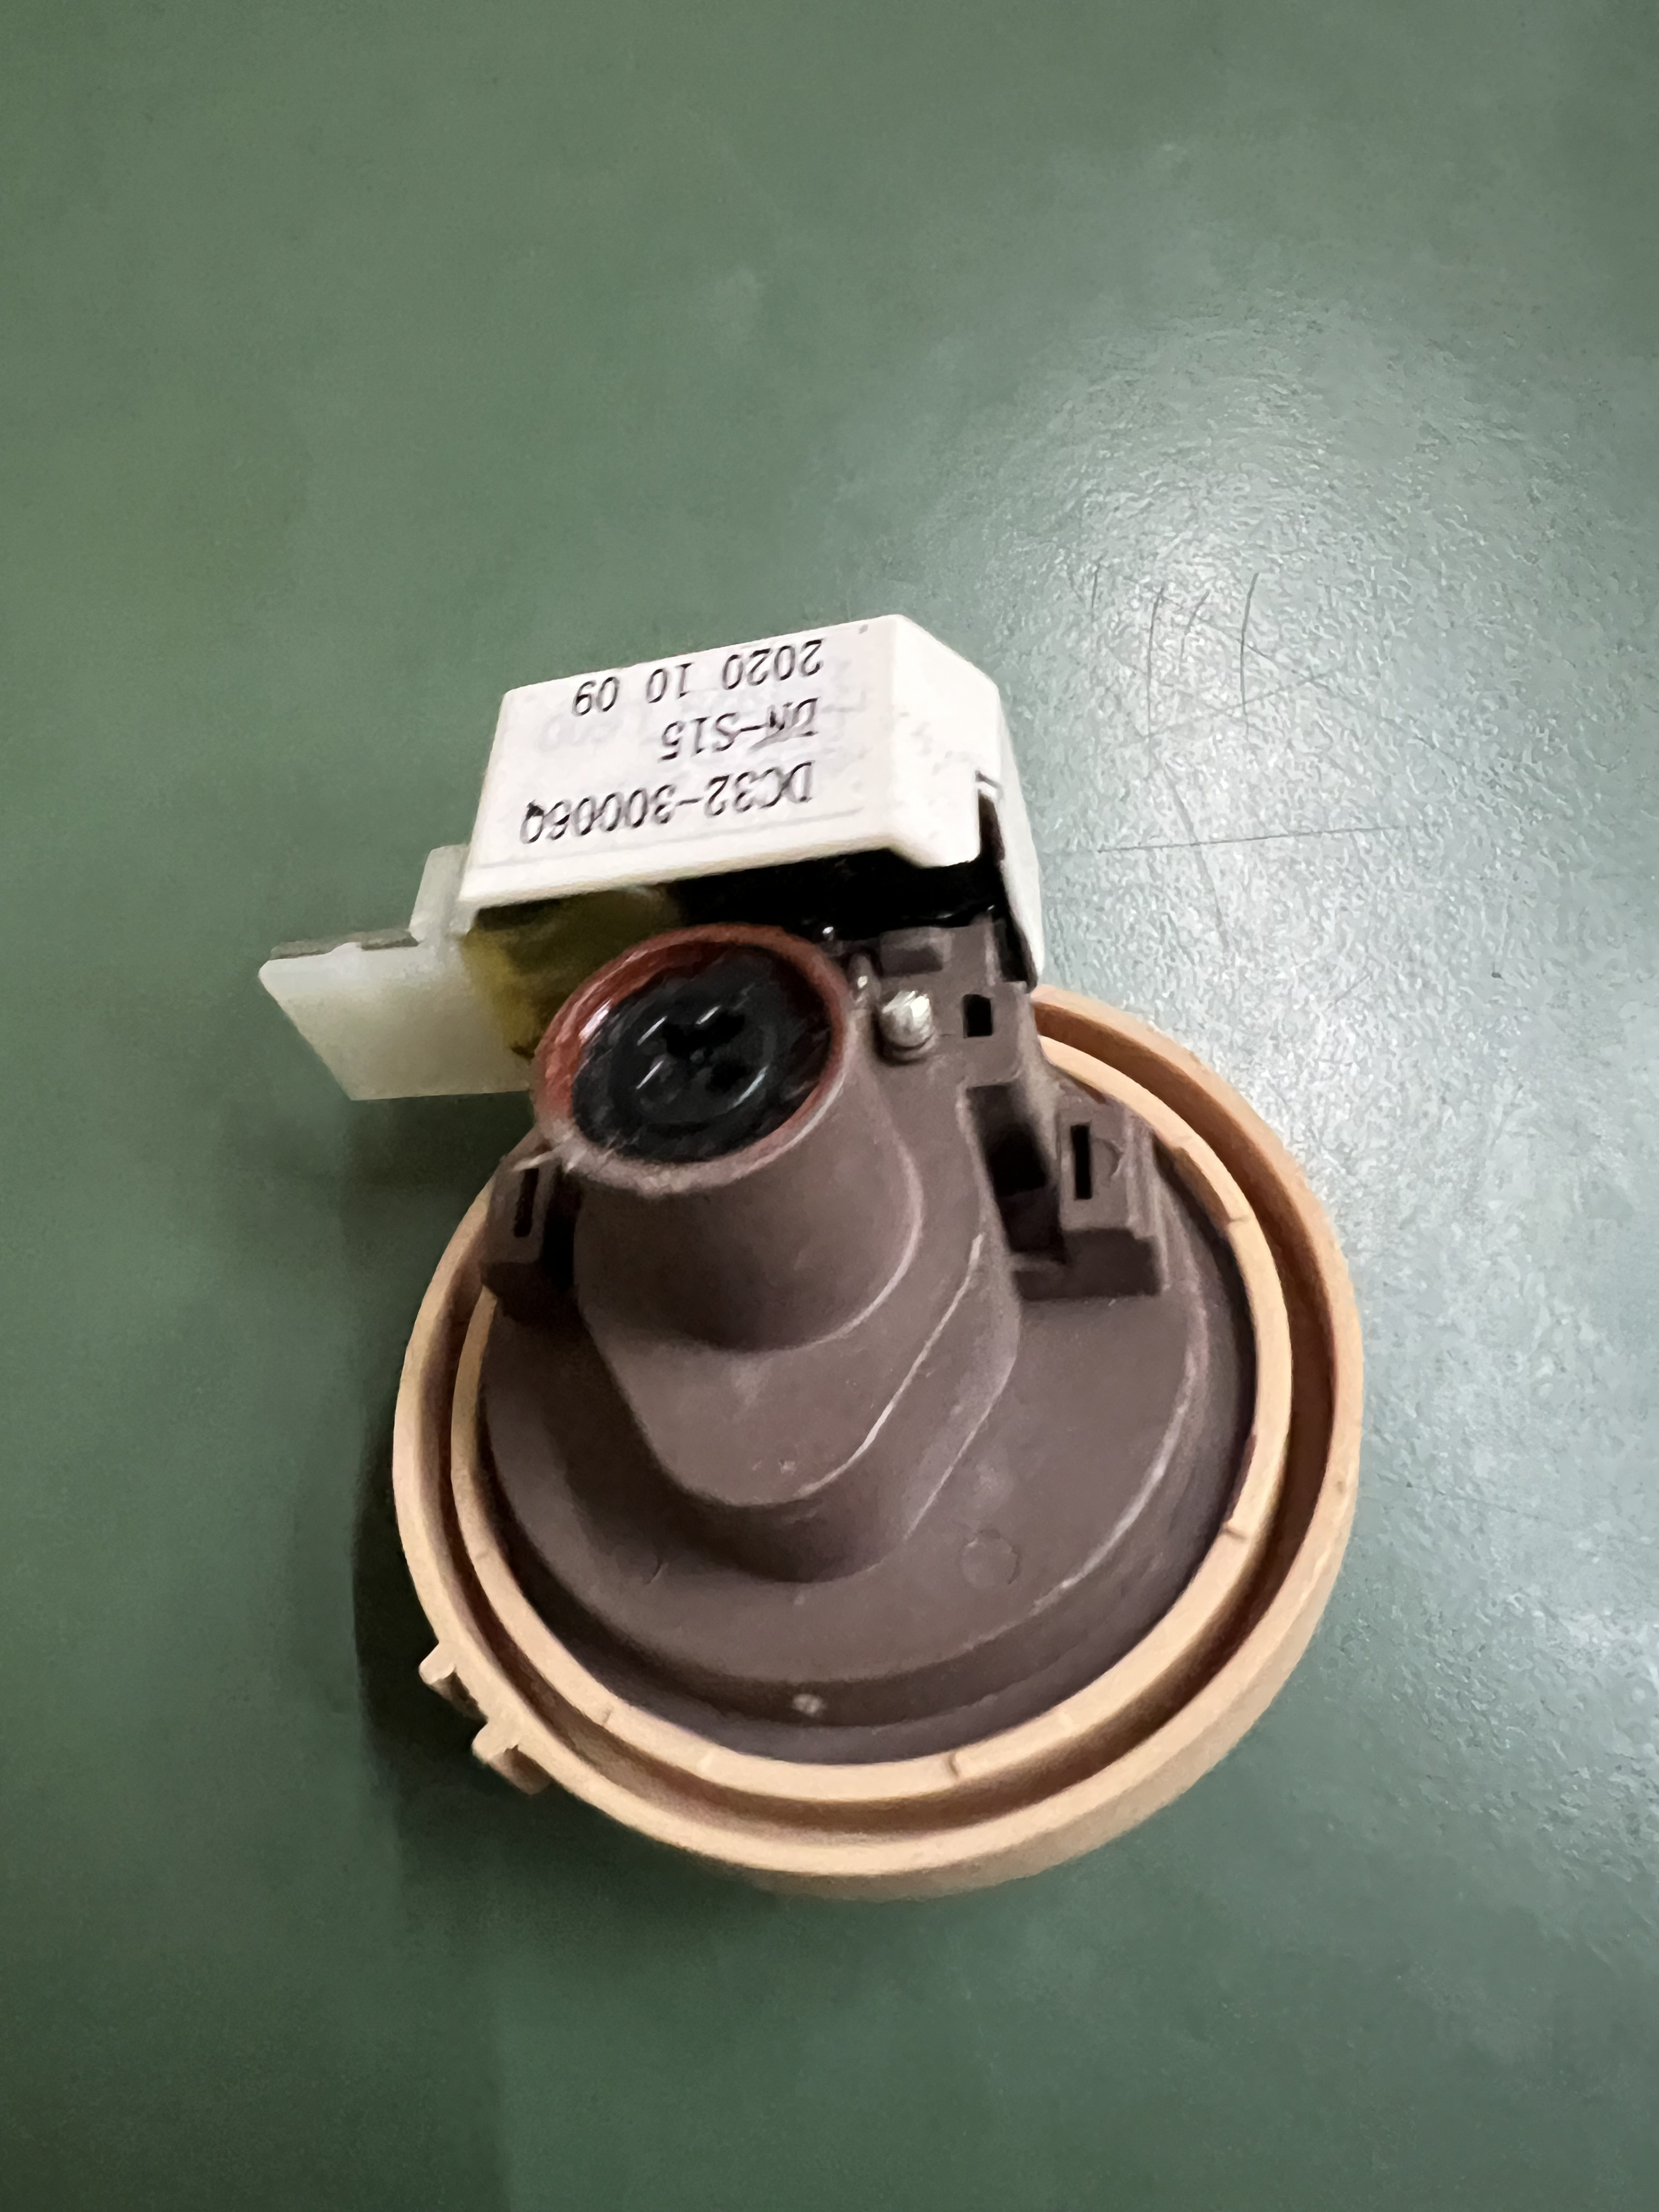pressure_sensor: (218, 613, 1393, 1872)
